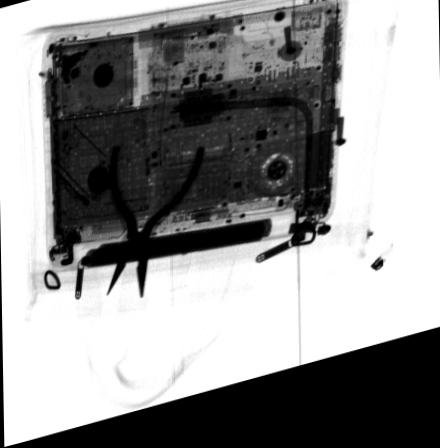Pliers: (103, 147, 206, 306)
